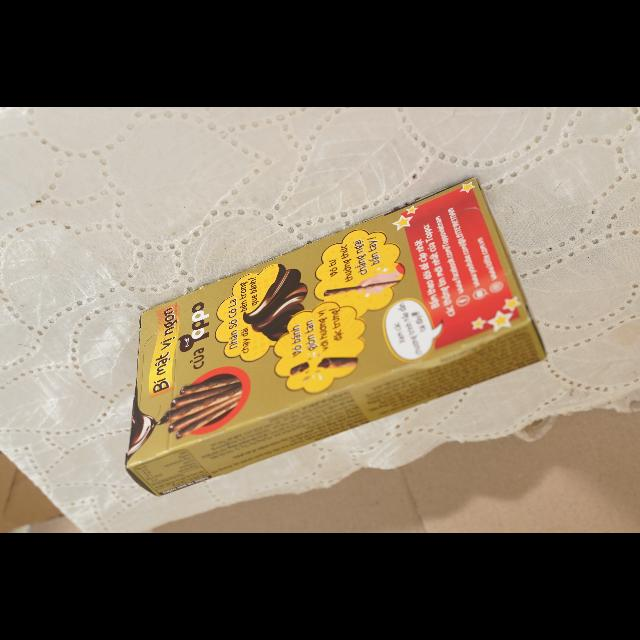banh_toppo_socola: (125, 178, 545, 496)
